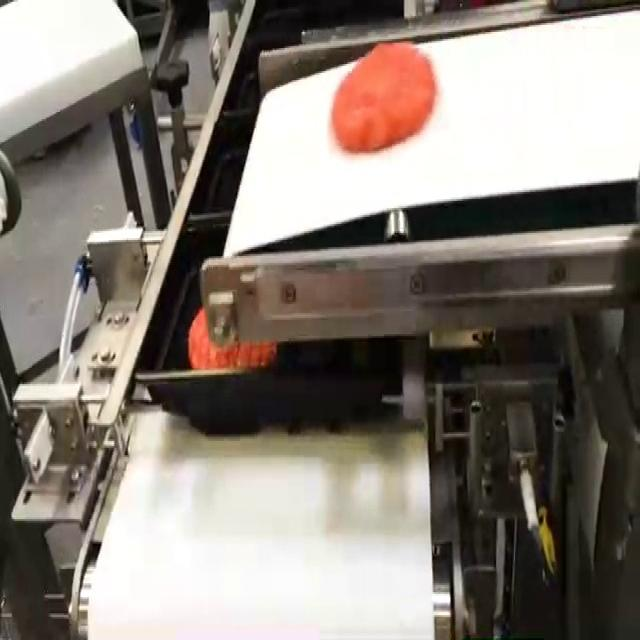hamburguer: (330, 43, 436, 149)
